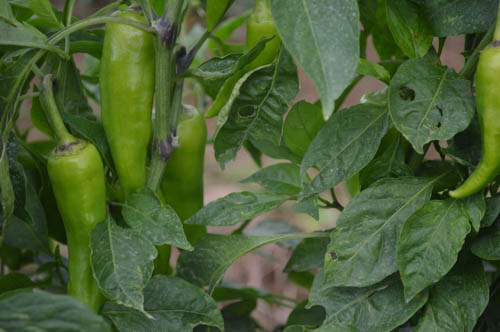ChiliPepper: (99, 13, 158, 197), (50, 145, 110, 316), (448, 45, 500, 213), (164, 109, 207, 247), (241, 14, 280, 98)
